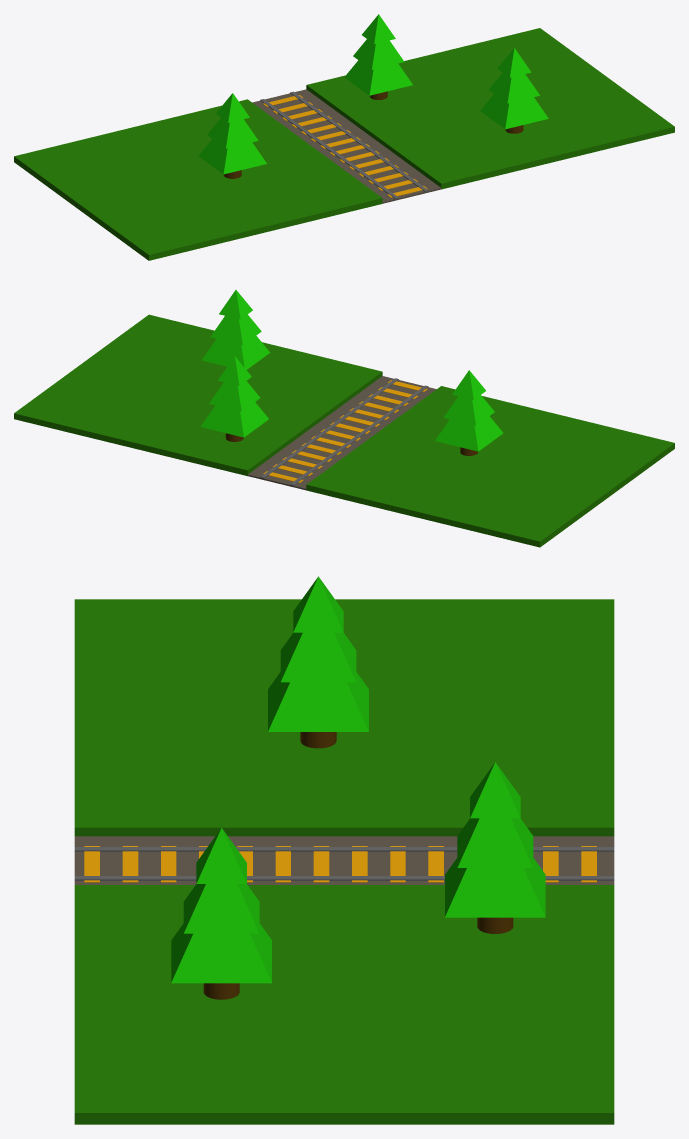
The model's file is m_train_2.fbx.
3 renders of one model, top to bottom at view 1: azimuth 30°, elevation 25°; view 2: azimuth 150°, elevation 25°; view 3: azimuth 270°, elevation 25°, orthographic. The views are drawn at different scales.
Parts seen in each view (by area): view 1: GreenZone_1, GreenZoneLeft, railway_terrain_1, woods, Pyramid_2, Pyramid_2_2, Pyramid_2_4, Pyramid_1_2, Pyramid_1, Pyramid_1_3, railway, railway_1 (+3 smaller); view 2: GreenZone_1, GreenZoneLeft, railway_terrain_1, woods, Pyramid_2_4, Pyramid_2, Pyramid_2_2, Pyramid_1, Pyramid_1_2, Pyramid_1_3, railway_1, railway (+3 smaller); view 3: GreenZoneLeft, GreenZone_1, railway_terrain_1, Pyramid_2_2, Pyramid_2_4, Pyramid_2, woods, Pyramid_1, Pyramid_1_2, Pyramid_1_3, railway, Pyramid_3 (+3 smaller).
Boxes of the visible parts, x1,y1,x2,y2 form: GreenZone_1: (14,99,382,260); GreenZoneLeft: (306,28,674,189); railway_terrain_1: (252,89,441,203); woods: (263,95,427,197); Pyramid_2: (198,139,266,174); Pyramid_2_2: (480,94,548,129); Pyramid_2_4: (344,60,412,95); Pyramid_1_2: (489,73,539,103); Pyramid_1: (207,118,258,148); Pyramid_1_3: (353,39,404,69); railway: (260,99,398,199); railway_1: (290,91,428,191); GreenZone_1: (306,386,674,547); GreenZoneLeft: (14,314,382,475); railway_terrain_1: (247,376,436,490); woods: (263,380,427,482); Pyramid_2_4: (200,402,268,437); Pyramid_2: (435,416,503,451); Pyramid_2_2: (201,335,270,369); Pyramid_1: (443,395,494,425); Pyramid_1_2: (210,314,261,345); Pyramid_1_3: (209,381,260,411); railway_1: (260,378,398,478); railway: (290,385,428,485); GreenZoneLeft: (74,885,614,1124); GreenZone_1: (74,599,614,836); railway_terrain_1: (74,836,614,884); Pyramid_2_2: (171,923,271,983); Pyramid_2_4: (445,858,545,917); Pyramid_2: (268,672,368,731); woods: (84,846,596,882); Pyramid_1: (280,632,356,682); Pyramid_1_2: (183,884,259,933); Pyramid_1_3: (457,818,533,867); railway: (74,847,614,851); Pyramid_3: (470,762,520,818).
Bounding box in the file's own units: 5629 × 901 × 2500.
